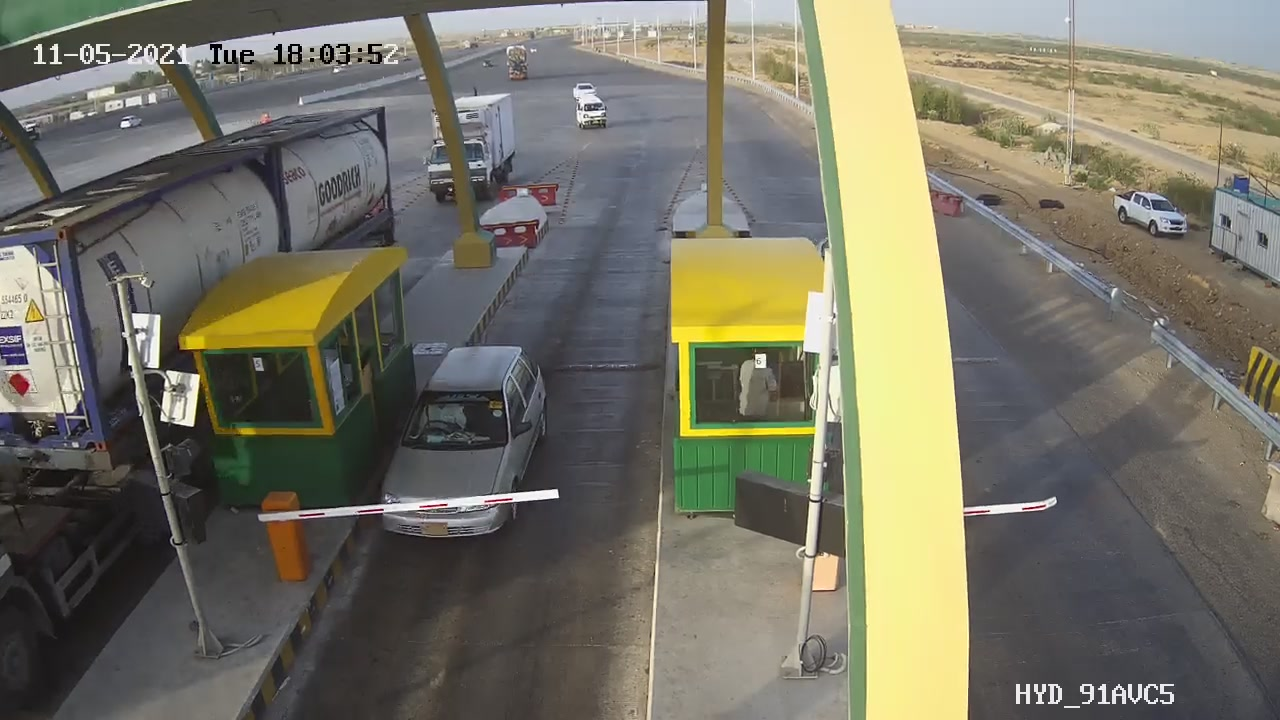F1: (353, 330, 574, 551)
